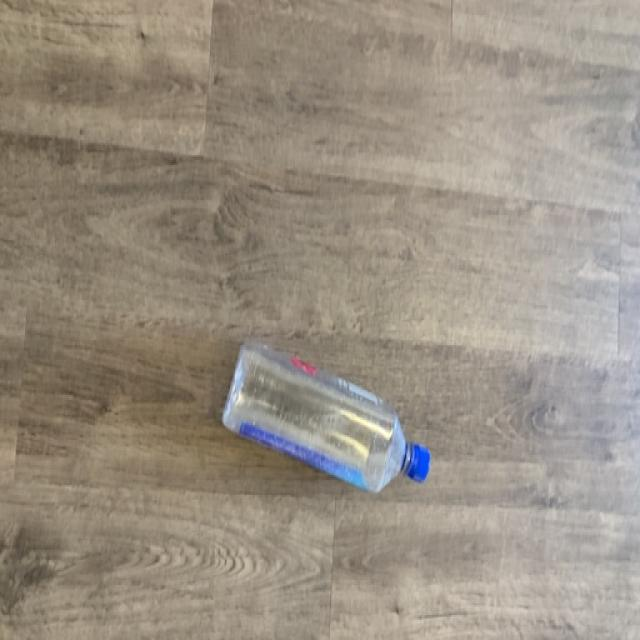Waste: (222, 342, 431, 492)
